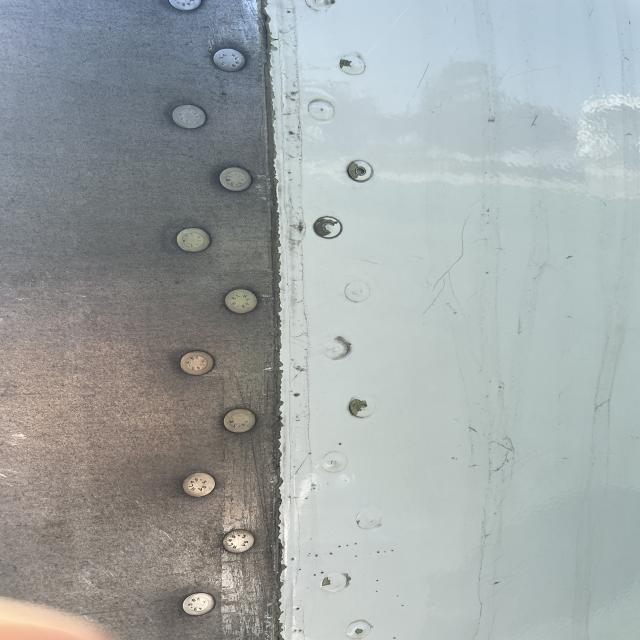crack: (418, 208, 475, 326), (496, 441, 519, 476), (410, 60, 433, 88), (525, 104, 538, 137)
